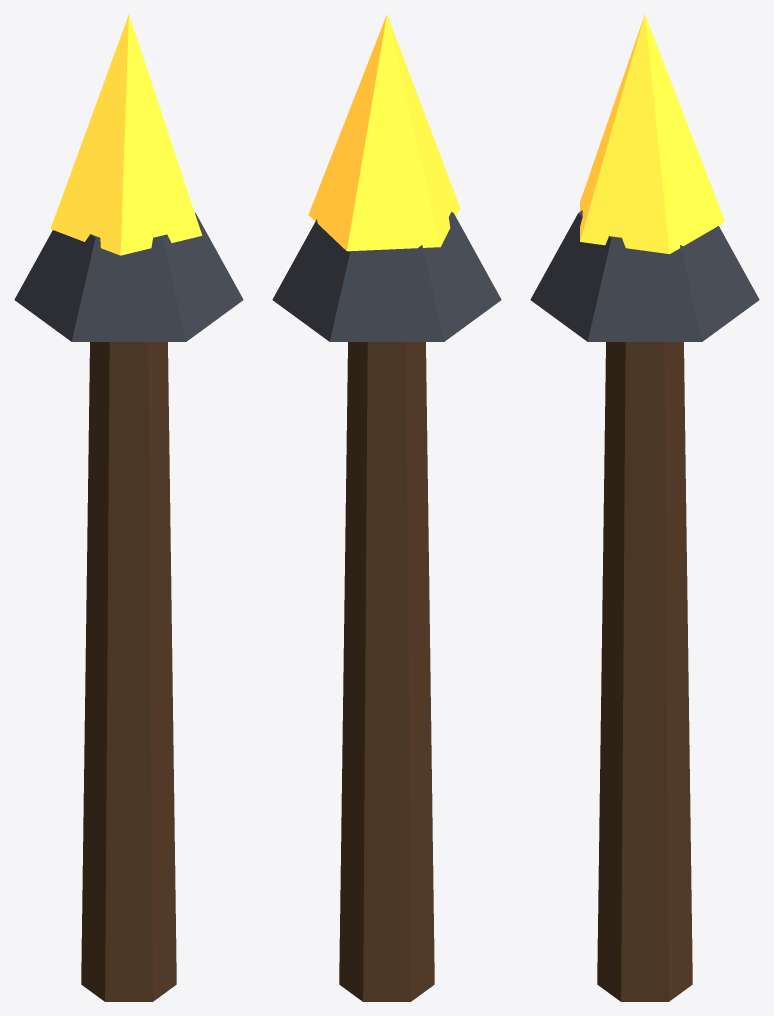
Rendered from Torch.fbx.
3 renders of one model, left to right at view 1: azimuth 30°, elevation 25°; view 2: azimuth 150°, elevation 25°; view 3: azimuth 270°, elevation 25°, orthographic.
Parts seen in each view (by area): view 1: Post, Bowl, Flame; view 2: Post, Flame, Bowl; view 3: Post, Flame, Bowl.
Part boxes in pixels (bbox=[...]): Post: bbox=[81, 342, 176, 1001]; Bowl: bbox=[14, 212, 243, 341]; Flame: bbox=[50, 14, 202, 255]; Post: bbox=[339, 342, 434, 1001]; Flame: bbox=[308, 14, 460, 251]; Bowl: bbox=[272, 211, 501, 341]; Post: bbox=[597, 342, 692, 1001]; Flame: bbox=[580, 14, 724, 254]; Bowl: bbox=[530, 210, 759, 341].
Bounding box in the file's own units: 1.04 × 5.6 × 1.2.
